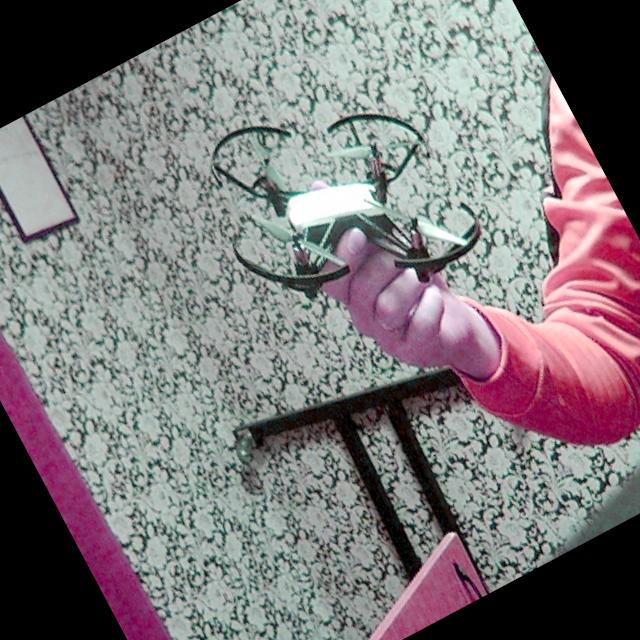drone: (168, 28, 508, 362)
